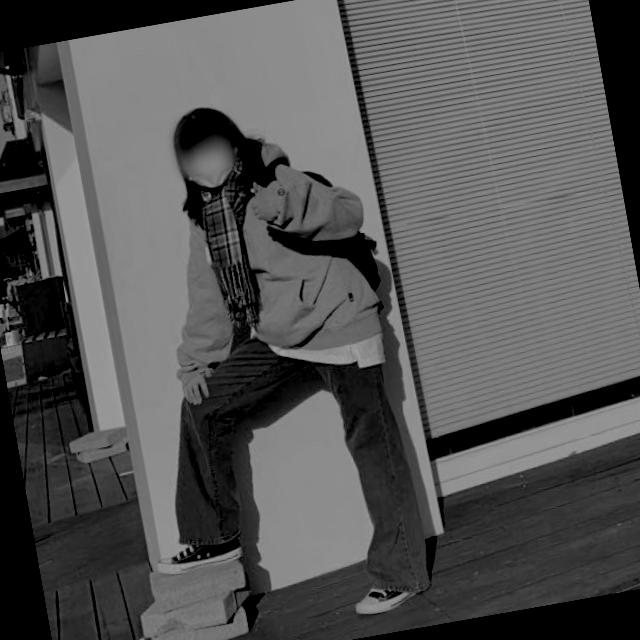denimpants: (144, 307, 436, 633)
hoodies: (138, 115, 394, 386)
